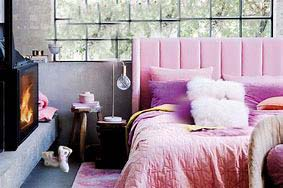copymove: (66, 1, 148, 38)
removal: (92, 37, 124, 62)
spliced: (41, 143, 72, 172)
